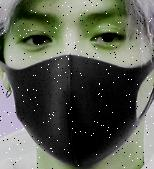with_mask: (1, 2, 154, 169)
